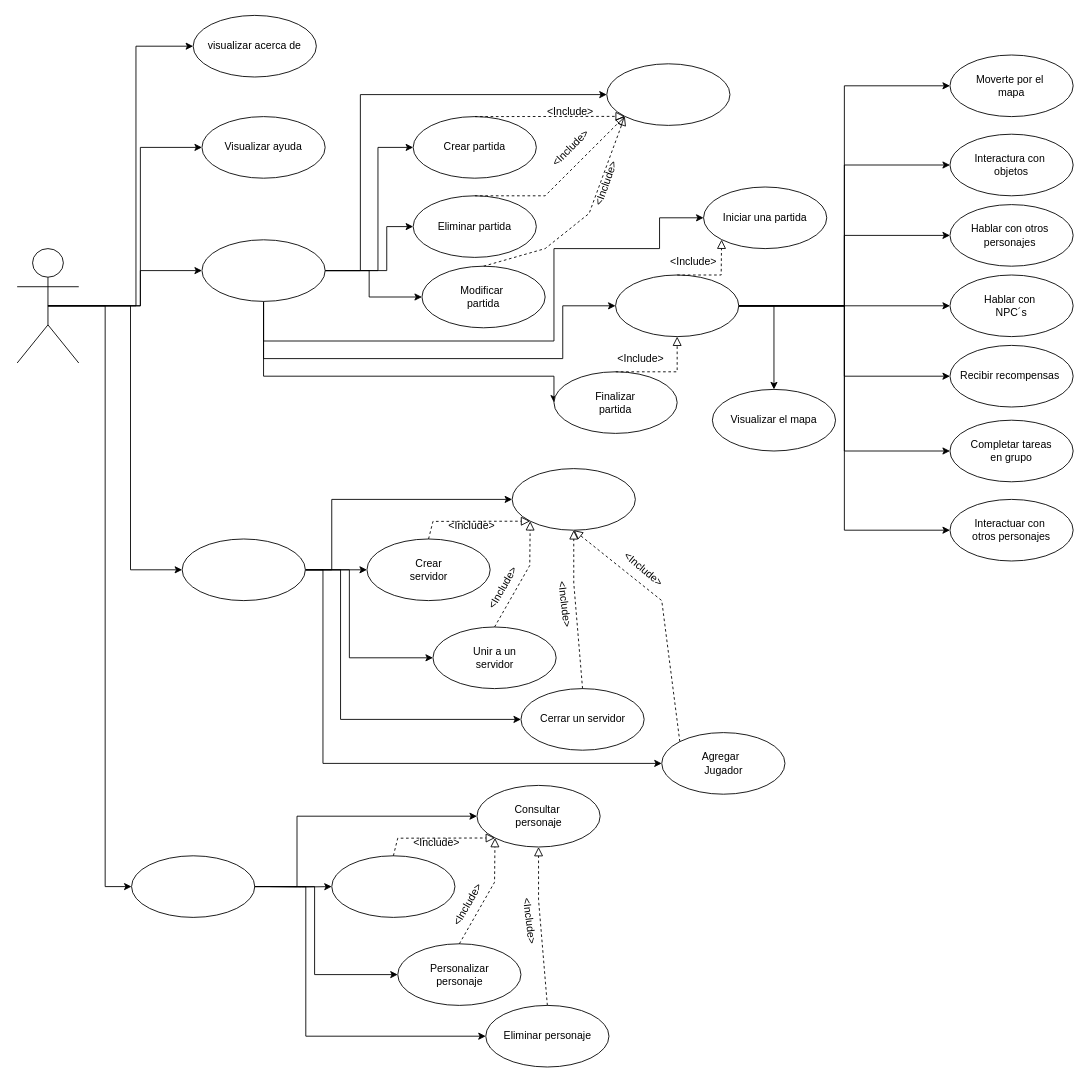
Image size: 1089x1082. Some labels were removed from this diagram. Each missing label, with the centre of its shape:
"Administrador" goes at point (47, 305).
"Administrar partida" goes at point (263, 270).
"Administrar personaje" goes at point (193, 886).
"Administrar servidor" goes at point (243, 569).
"Consultar partida" goes at point (668, 94).
"Consultar servidor" goes at point (573, 499).
"Crear personaje" goes at point (393, 886).
"Jugar partida" goes at point (677, 305).
